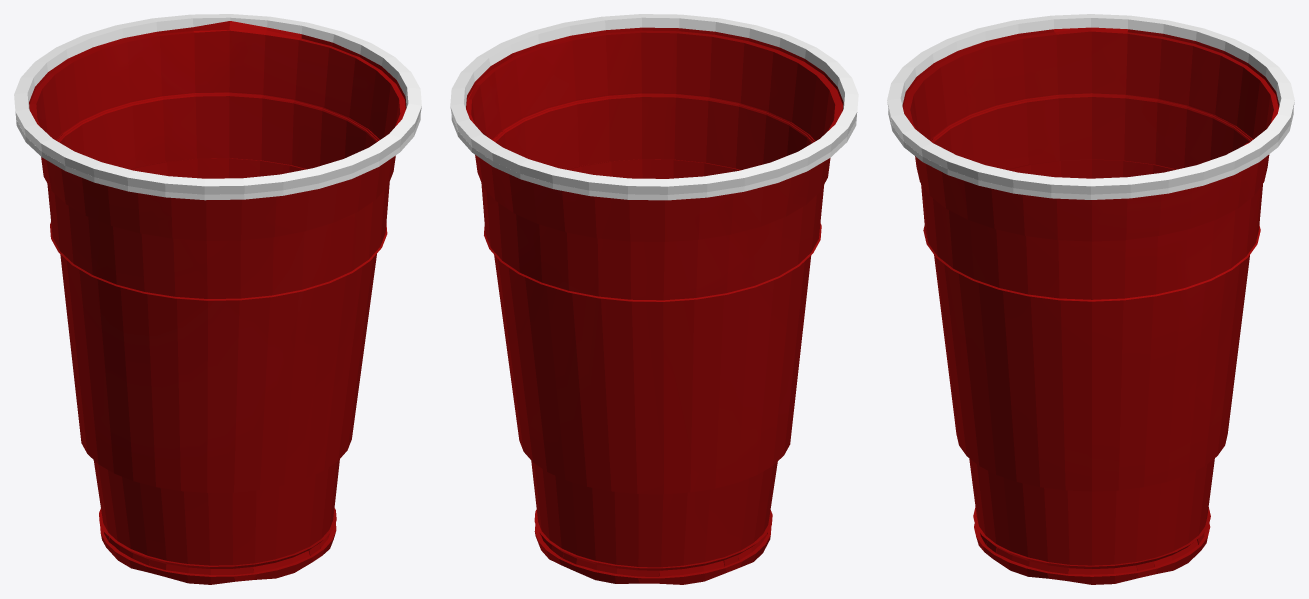
File: BeerCup_noSubdiv_fixed_orient.fbx
3 views of the same model, side by side, from view 1: azimuth 30°, elevation 25°; view 2: azimuth 150°, elevation 25°; view 3: azimuth 270°, elevation 25° (orthographic).
Visible parts, largest first — view 1: BeerCup; view 2: BeerCup; view 3: BeerCup.
Boxes of the visible parts, x1,y1,x2,y2 form: BeerCup: [14, 14, 421, 584]; BeerCup: [450, 14, 858, 584]; BeerCup: [887, 14, 1294, 584].
Size of the model in its own units: 201 by 238 by 201.
Materials: 1 (1 with a texture image).
